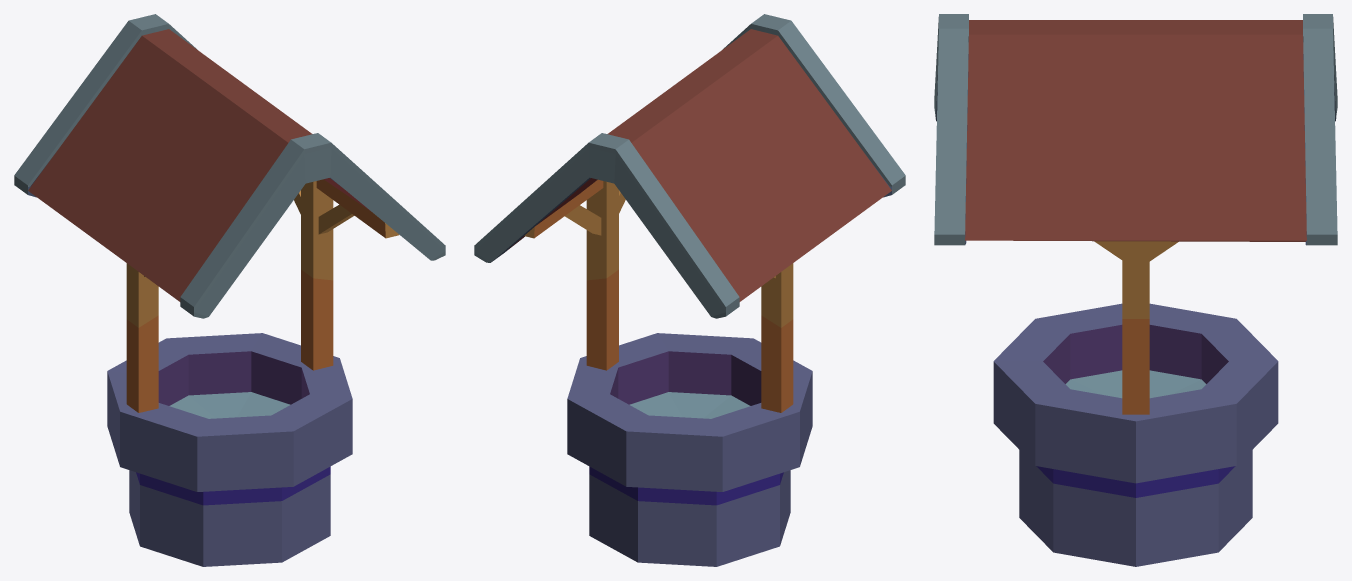
File: Weel.fbx
3 renders of one model, left to right at view 1: azimuth 30°, elevation 25°; view 2: azimuth 150°, elevation 25°; view 3: azimuth 270°, elevation 25°, orthographic. The views are drawn at different scales.
Parts seen in each view (by area): view 1: PocoCenario; view 2: PocoCenario; view 3: PocoCenario.
Part boxes in pixels (left/top/right/bottom): PocoCenario: left=14, top=14, right=445, bottom=566; PocoCenario: left=474, top=14, right=905, bottom=566; PocoCenario: left=934, top=14, right=1337, bottom=566.
Size of the model in its own units: 280 by 470 by 346.
